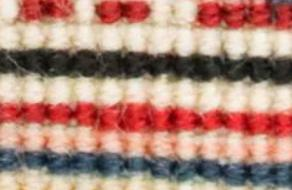Knot: (171, 60, 195, 75), (21, 107, 42, 122), (25, 152, 42, 167), (126, 157, 143, 170), (103, 65, 120, 76)
